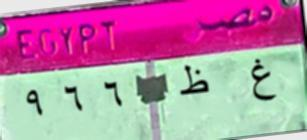6: (58, 82, 88, 115), (101, 75, 125, 115)
9: (22, 88, 52, 123)
Thaa: (176, 61, 215, 104)
ghayn: (247, 52, 277, 109)
